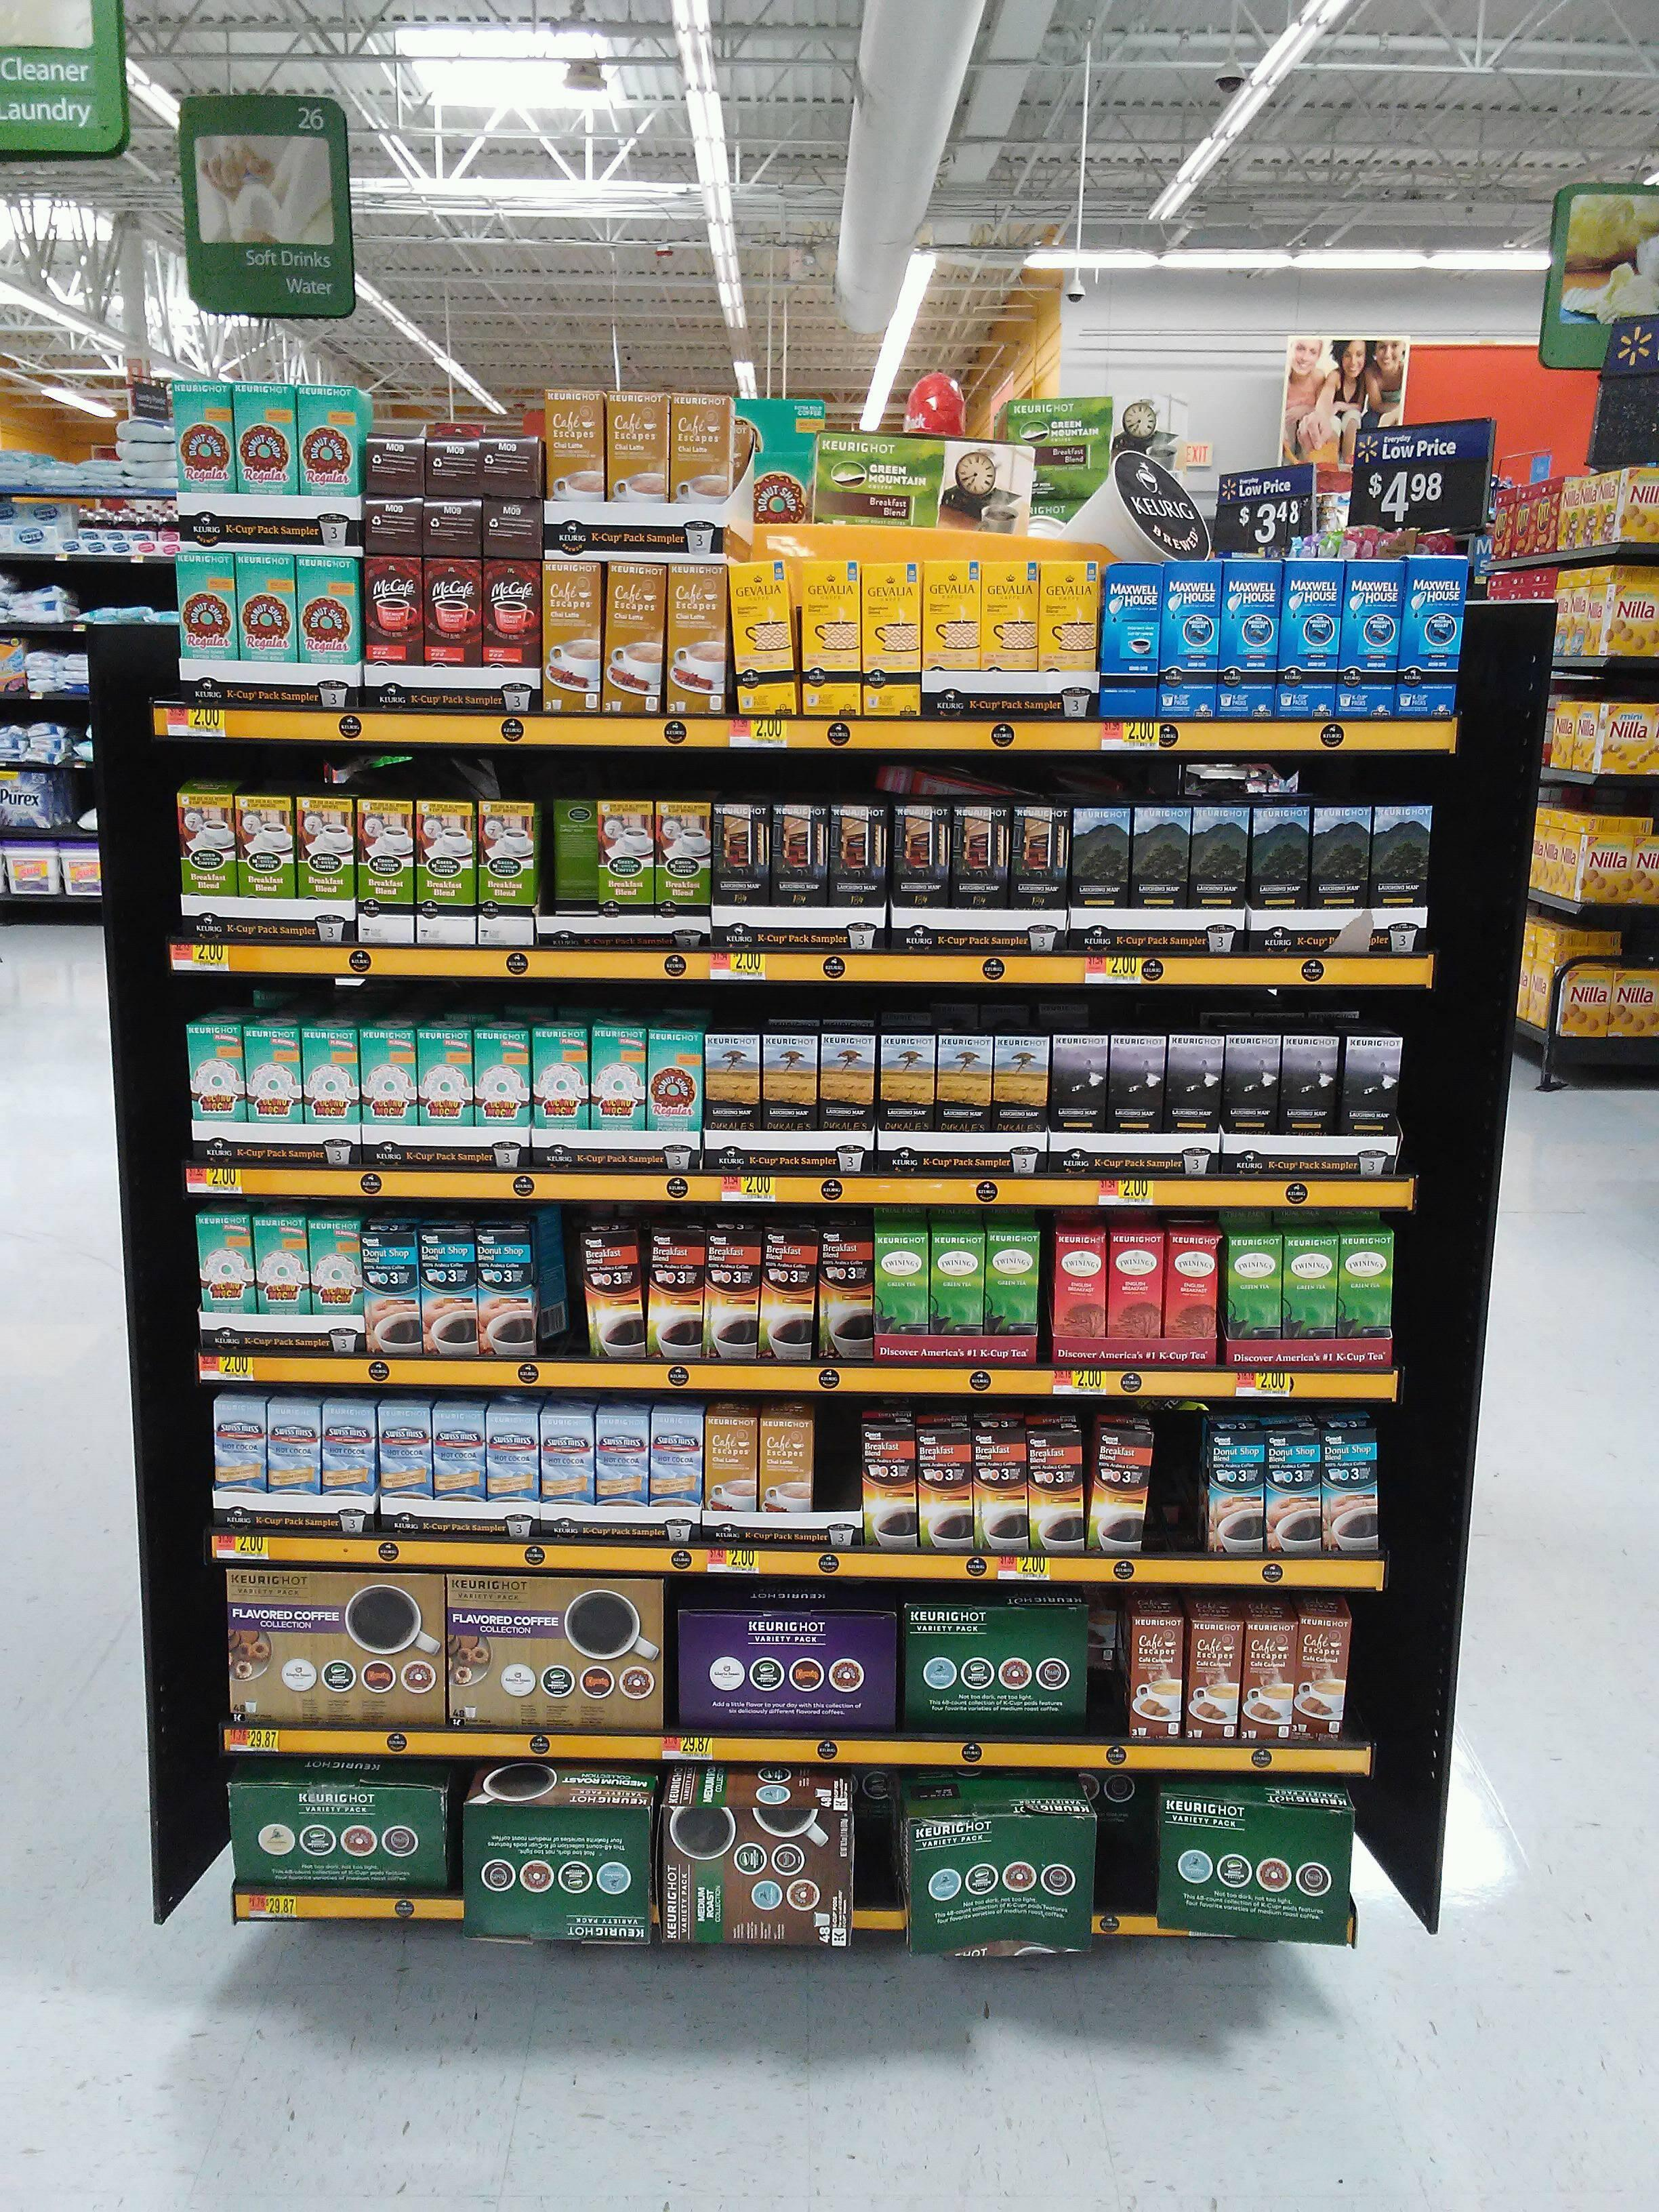empty: (1154, 1435, 1202, 1552), (814, 1416, 861, 1524)
